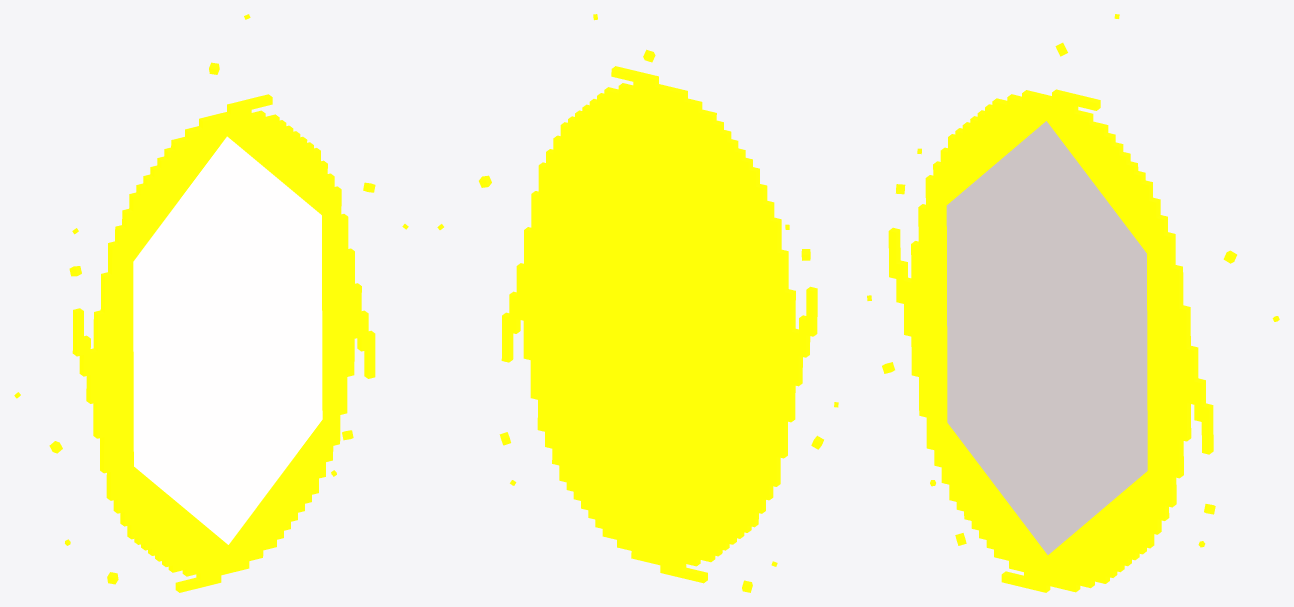
File: portal-orange.gltf
The picture shows the model from 3 angles, left to right: view 1: azimuth 30°, elevation 25°; view 2: azimuth 150°, elevation 25°; view 3: azimuth 330°, elevation 25°; orthographic projection. The views are drawn at different scales.
Parts seen in each view (by area): view 1: Circle, Orange; view 2: Orange; view 3: Circle, Orange.
Part boxes in pixels (x1,y1,x2,y2): Circle: (133,136,322,544); Orange: (14,14,408,592); Orange: (437,14,838,592); Circle: (946,121,1147,554); Orange: (867,14,1279,592).
Bounding box in the file's own units: 5.6 × 7.42 × 0.6871.
